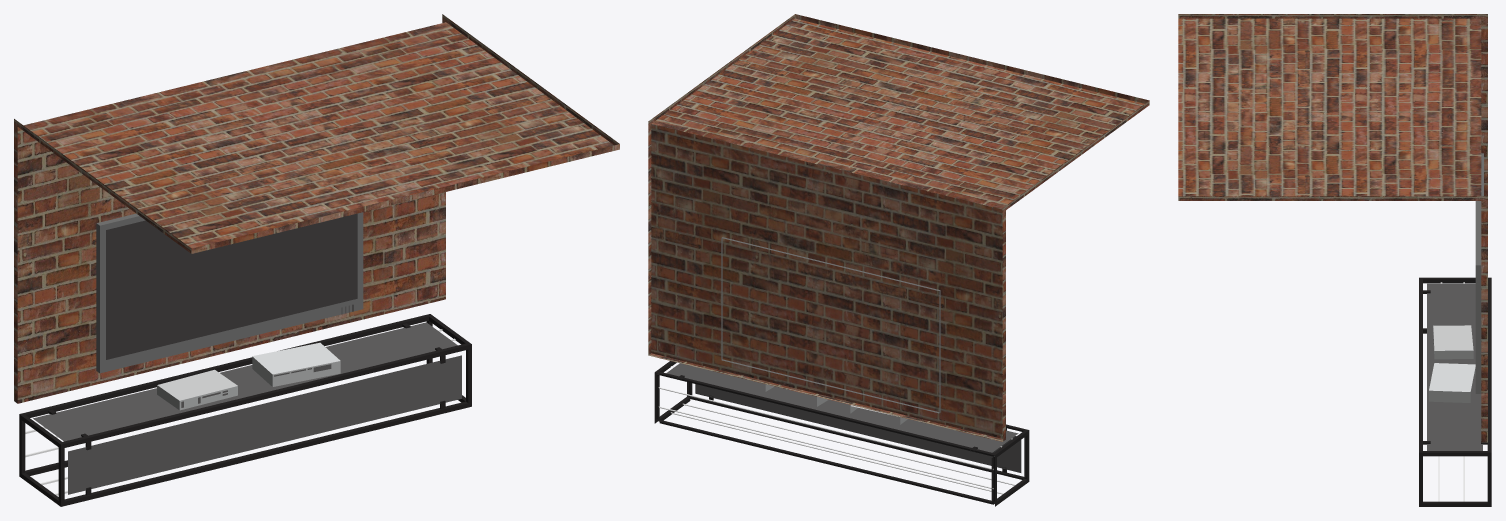
File: M_TVgui04.FBX
The picture shows the model from 3 angles, left to right: view 1: azimuth 30°, elevation 25°; view 2: azimuth 150°, elevation 25°; view 3: azimuth 270°, elevation 25°; orthographic projection. The views are drawn at different scales.
Visible parts, largest first — view 1: M_TVgui04_02, M_TVgui04_01, M_TVgui04_05, M_TVgui04_04; view 2: M_TVgui04_02, M_TVgui04_05, M_TVgui04_04, M_TVgui04_06, M_TVgui04_01; view 3: M_TVgui04_02, M_TVgui04_05, M_TVgui04_01, M_TVgui04_04.
Part boxes in pixels (left/top/right/bottom): M_TVgui04_02: left=14, top=14, right=619, bottom=403; M_TVgui04_01: left=96, top=212, right=363, bottom=410; M_TVgui04_05: left=33, top=322, right=461, bottom=494; M_TVgui04_04: left=19, top=314, right=471, bottom=506; M_TVgui04_02: left=648, top=14, right=1149, bottom=441; M_TVgui04_05: left=666, top=363, right=1021, bottom=472; M_TVgui04_04: left=654, top=361, right=1029, bottom=506; M_TVgui04_06: left=658, top=366, right=1015, bottom=494; M_TVgui04_01: left=721, top=237, right=940, bottom=424; M_TVgui04_02: left=1178, top=14, right=1487, bottom=442; M_TVgui04_05: left=1427, top=283, right=1482, bottom=450; M_TVgui04_01: left=1429, top=153, right=1483, bottom=402; M_TVgui04_04: left=1419, top=277, right=1491, bottom=506.
Size of the model in its own units: 4.79 by 3.86 by 3.48.
